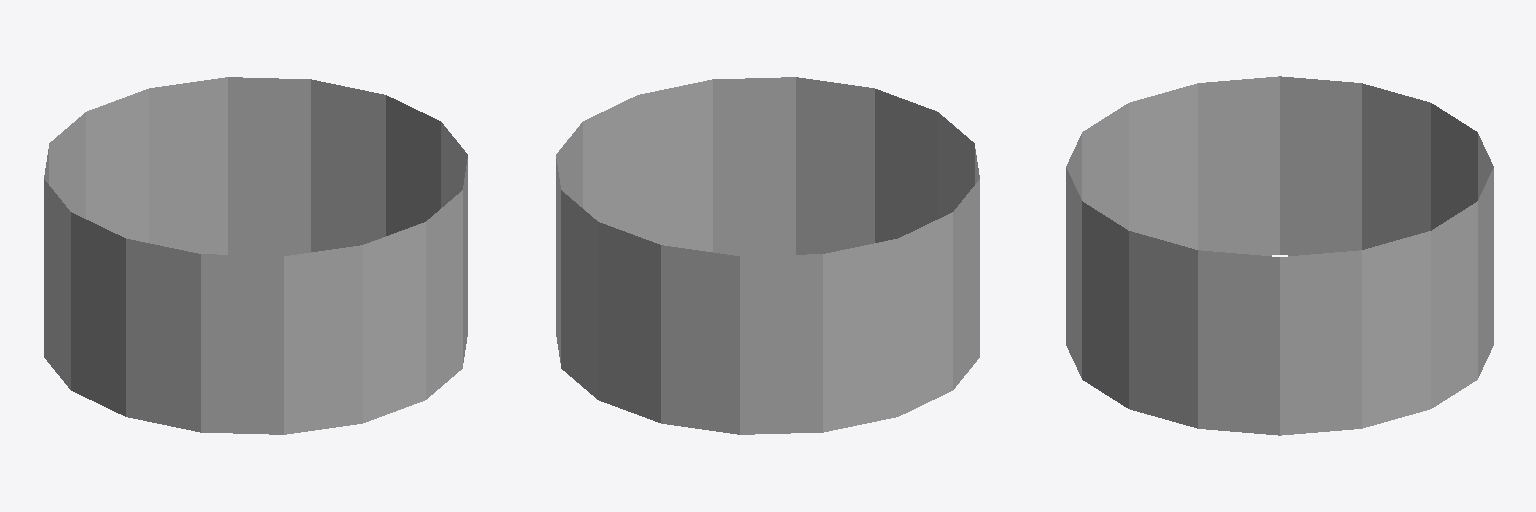
Rendered from Core_IV_Glass.obj.
3 renders of one model, left to right at view 1: azimuth 30°, elevation 25°; view 2: azimuth 150°, elevation 25°; view 3: azimuth 270°, elevation 25°, orthographic.
Visible parts, largest first — view 1: Core_IV_Glass_Core_IV_Glass_Mesh; view 2: Core_IV_Glass_Core_IV_Glass_Mesh; view 3: Core_IV_Glass_Core_IV_Glass_Mesh.
Part boxes in pixels (bbox=[...]): Core_IV_Glass_Core_IV_Glass_Mesh: bbox=[44, 77, 467, 434]; Core_IV_Glass_Core_IV_Glass_Mesh: bbox=[556, 77, 979, 434]; Core_IV_Glass_Core_IV_Glass_Mesh: bbox=[1066, 76, 1493, 435].
Size of the model in its own units: 0.6923 by 0.3187 by 0.6923.